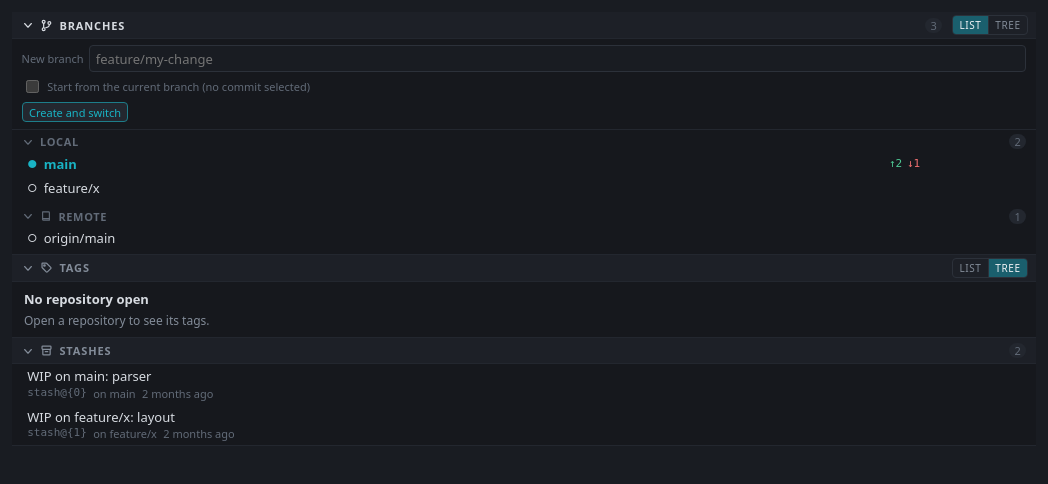
Test: creating a branch › rejects my branch in the field
Type "my branch" into the field labelled "New branch". click: (558, 59)
box: [89, 45, 1026, 72]
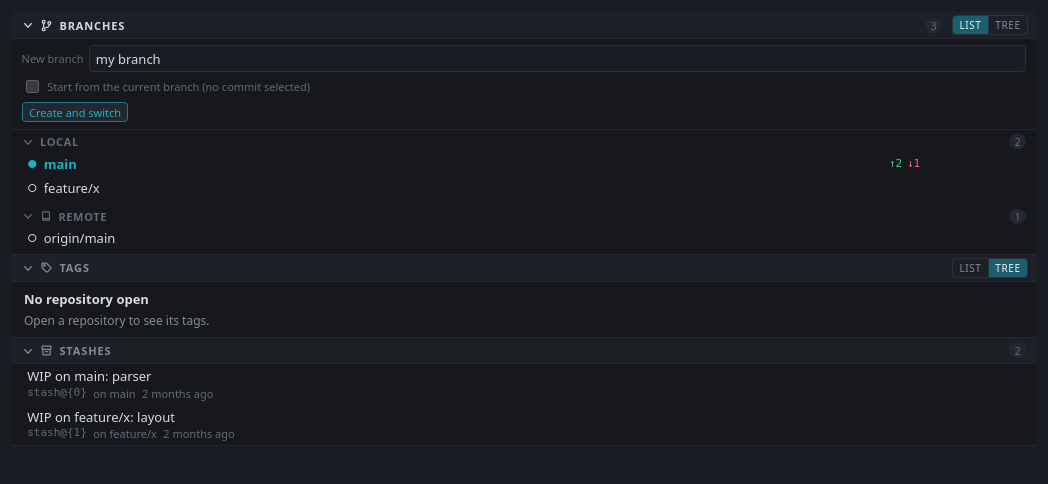
Click the button "Create and switch". click: click(75, 112)
box: [22, 102, 128, 122]
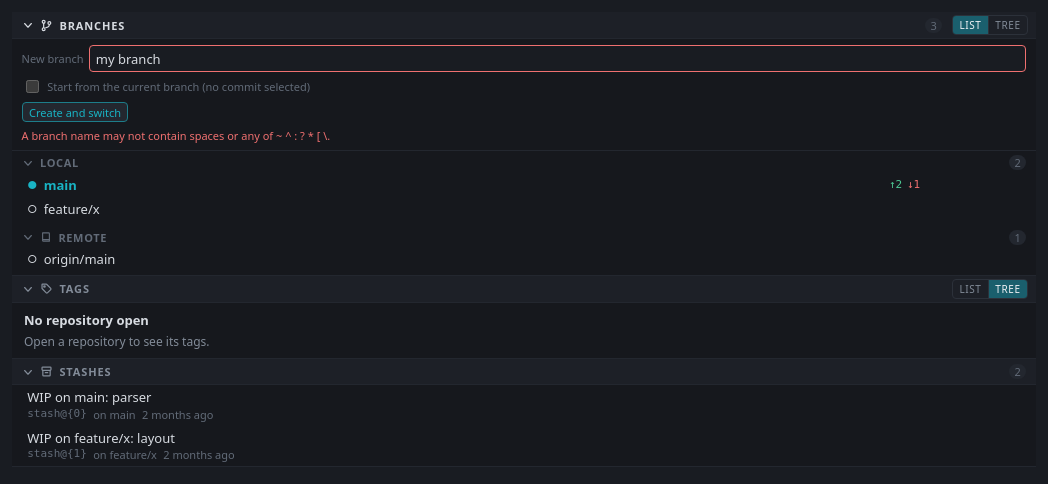
Result: the message shows "A branch name may not contain spaces" at [22, 128, 330, 143]
